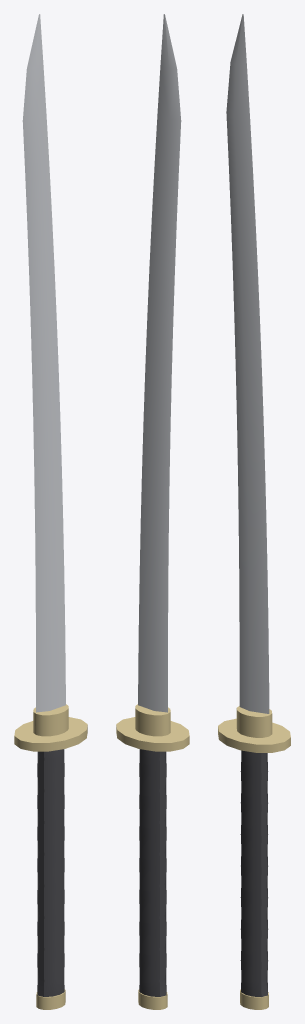
Rendered from katana_main.fbx.
3 views of the same model, side by side, from view 1: azimuth 30°, elevation 25°; view 2: azimuth 150°, elevation 25°; view 3: azimuth 330°, elevation 25° (orthographic).
Parts seen in each view (by area): view 1: katana_main; view 2: katana_main; view 3: katana_main.
Part boxes in pixels (x1,y1,x2,y2): katana_main: [14, 14, 87, 1009]; katana_main: [116, 14, 189, 1009]; katana_main: [218, 14, 290, 1009].
Bounding box in the file's own units: 6.63 × 94 × 4.9.
